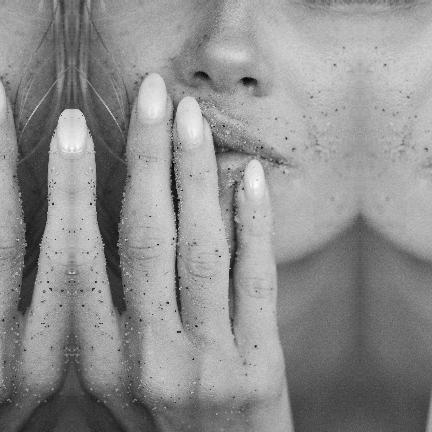Nail: (175, 95, 203, 149), (136, 72, 166, 119), (243, 159, 265, 200), (71, 108, 86, 158), (56, 108, 71, 158), (0, 80, 6, 118)
